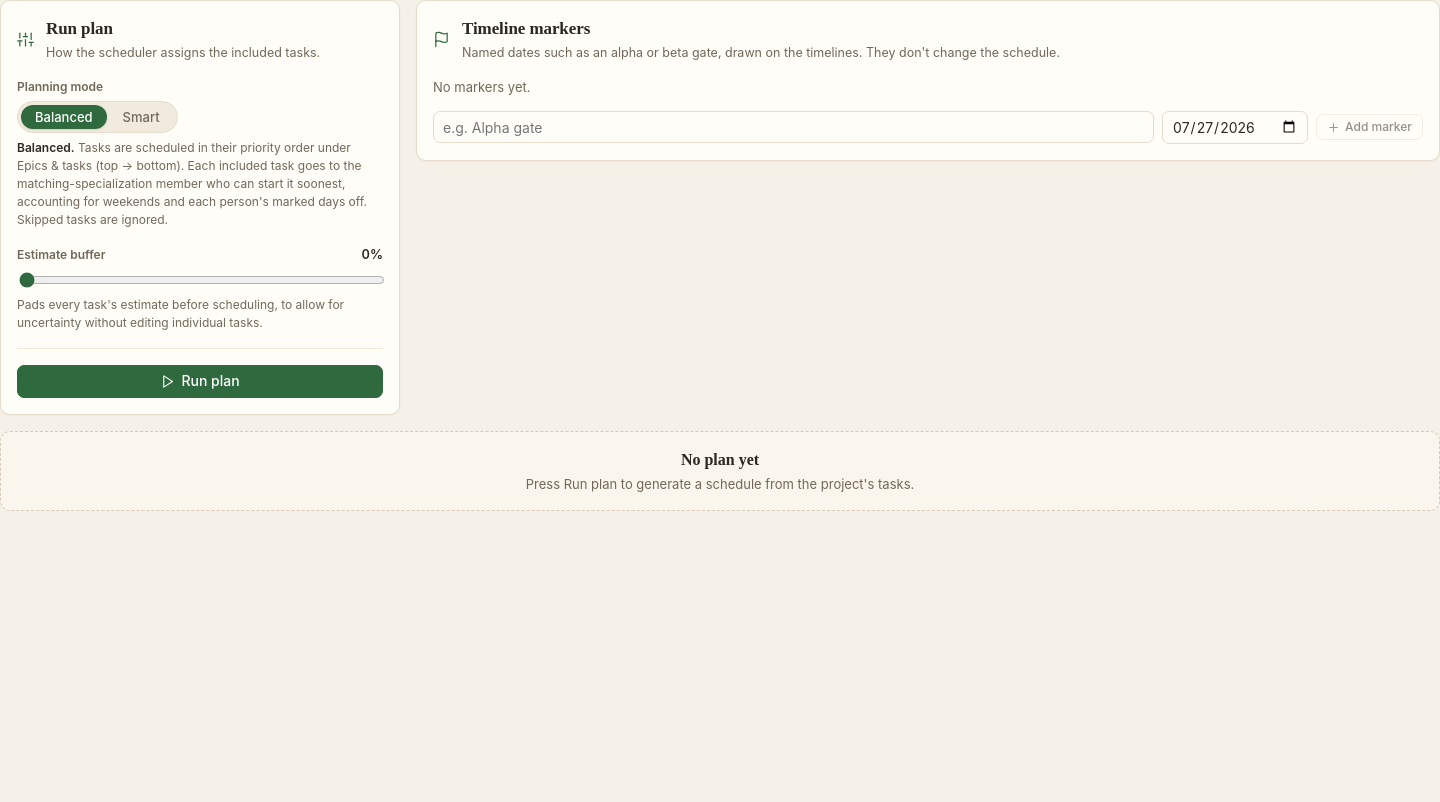
Test: RunPlanPanel › filters the plan by task or epic name
Click the button "Run plan" at (200, 381), box [17,365,383,398]
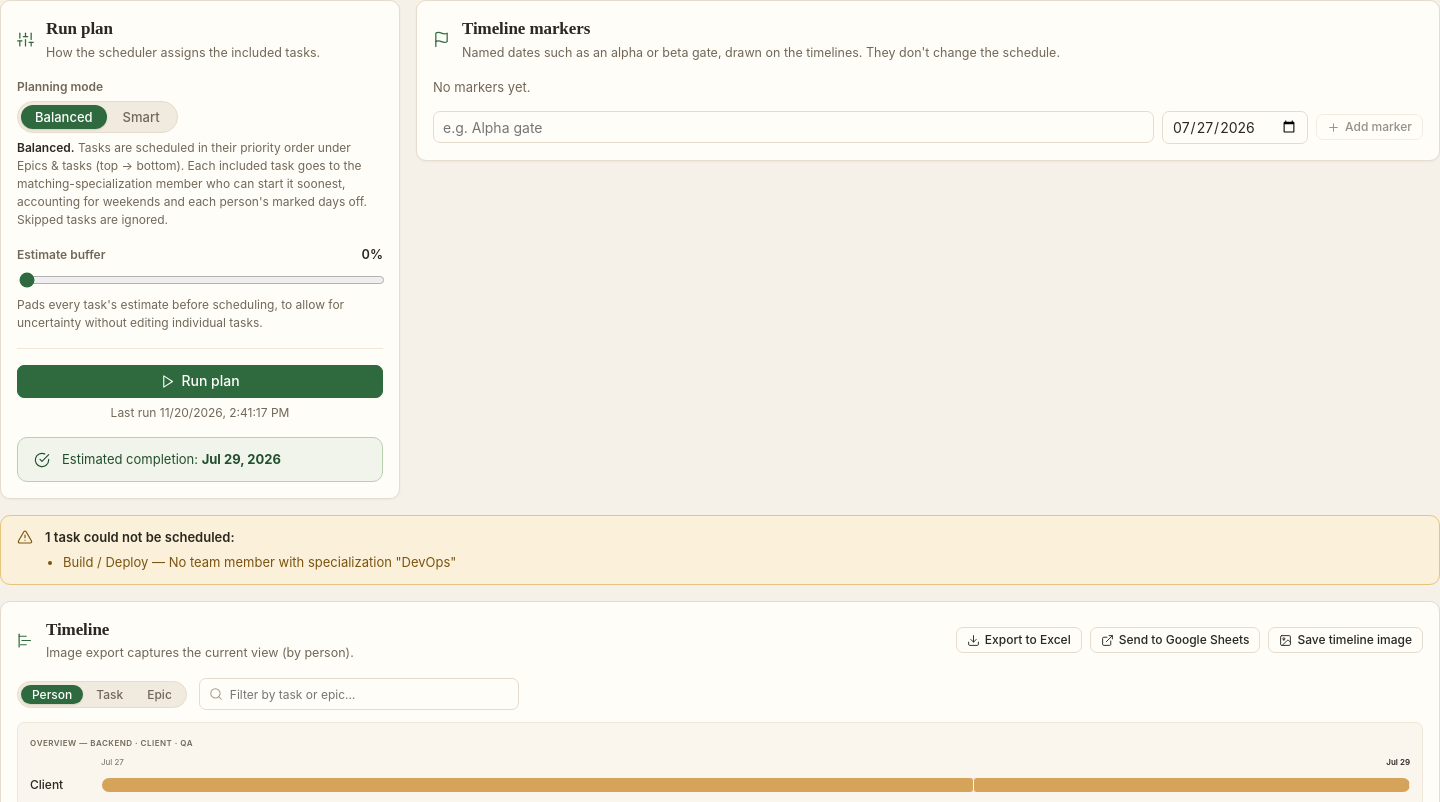
// Epic name match keeps that epic's tasks only.
Type "launch" into the search field named "Filter plan by task or epic" at (359, 694), box [199,678,519,710]
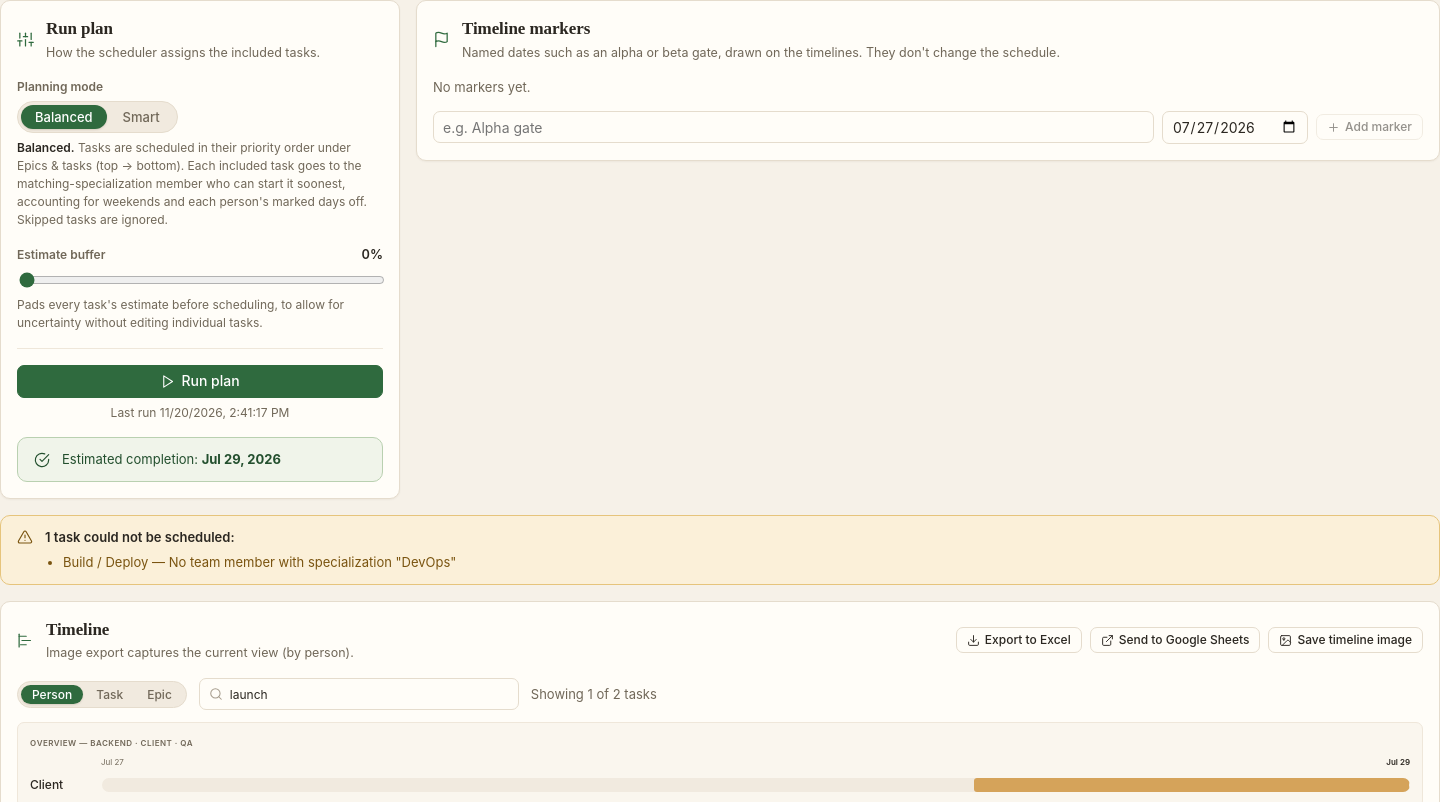
Check: the text "Showing 1 of 2 tasks" is shown, box [531,685,657,704]
Check: the text "Build API" is not shown
// Task name match.
Replace the text in the search field named "Filter plan by task or epic" with "api" at (359, 694), box [199,678,519,710]
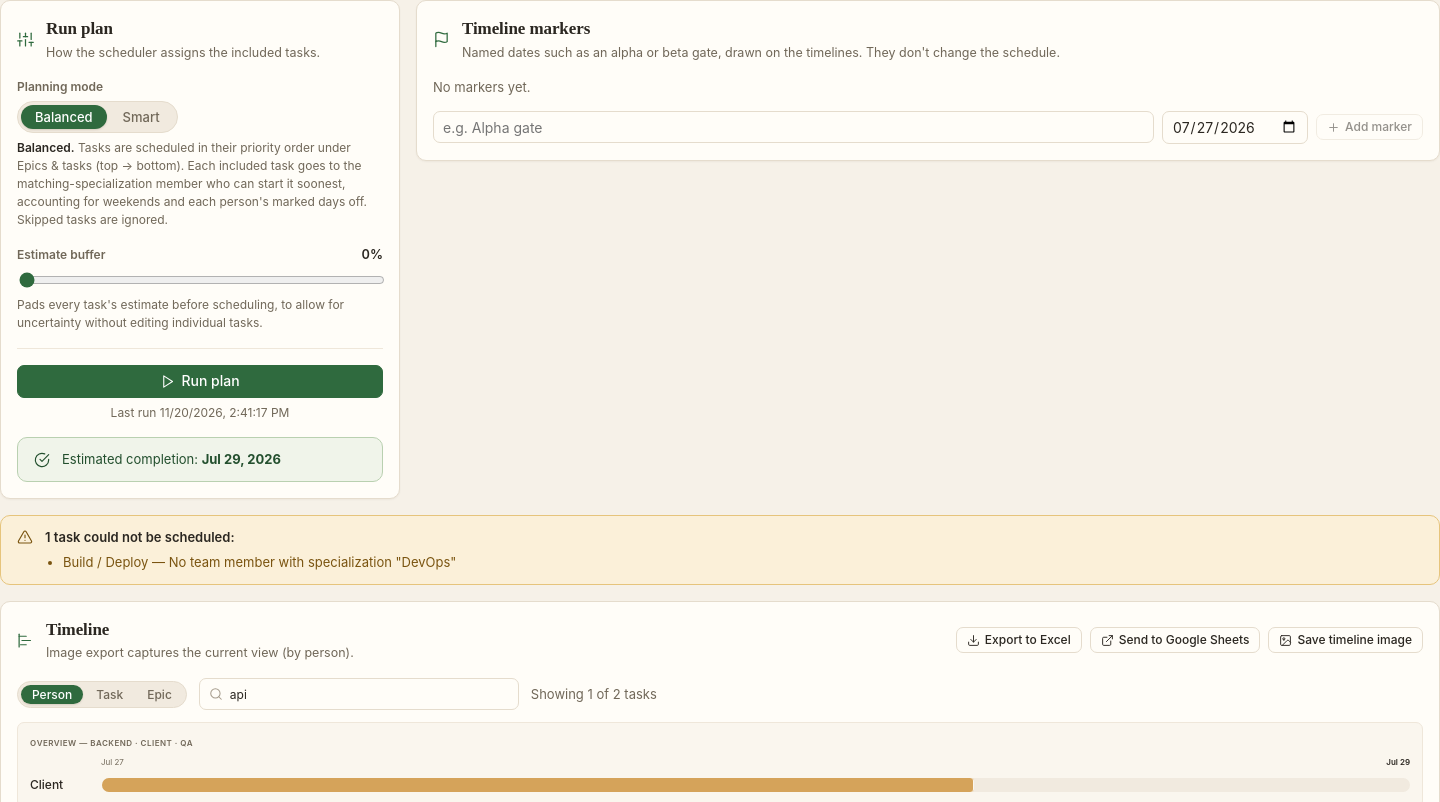
Check: the text "Write docs" is not shown
Replace the text in the search field named "Filter plan by task or epic" with "nothing" at (359, 694), box [199,678,519,710]
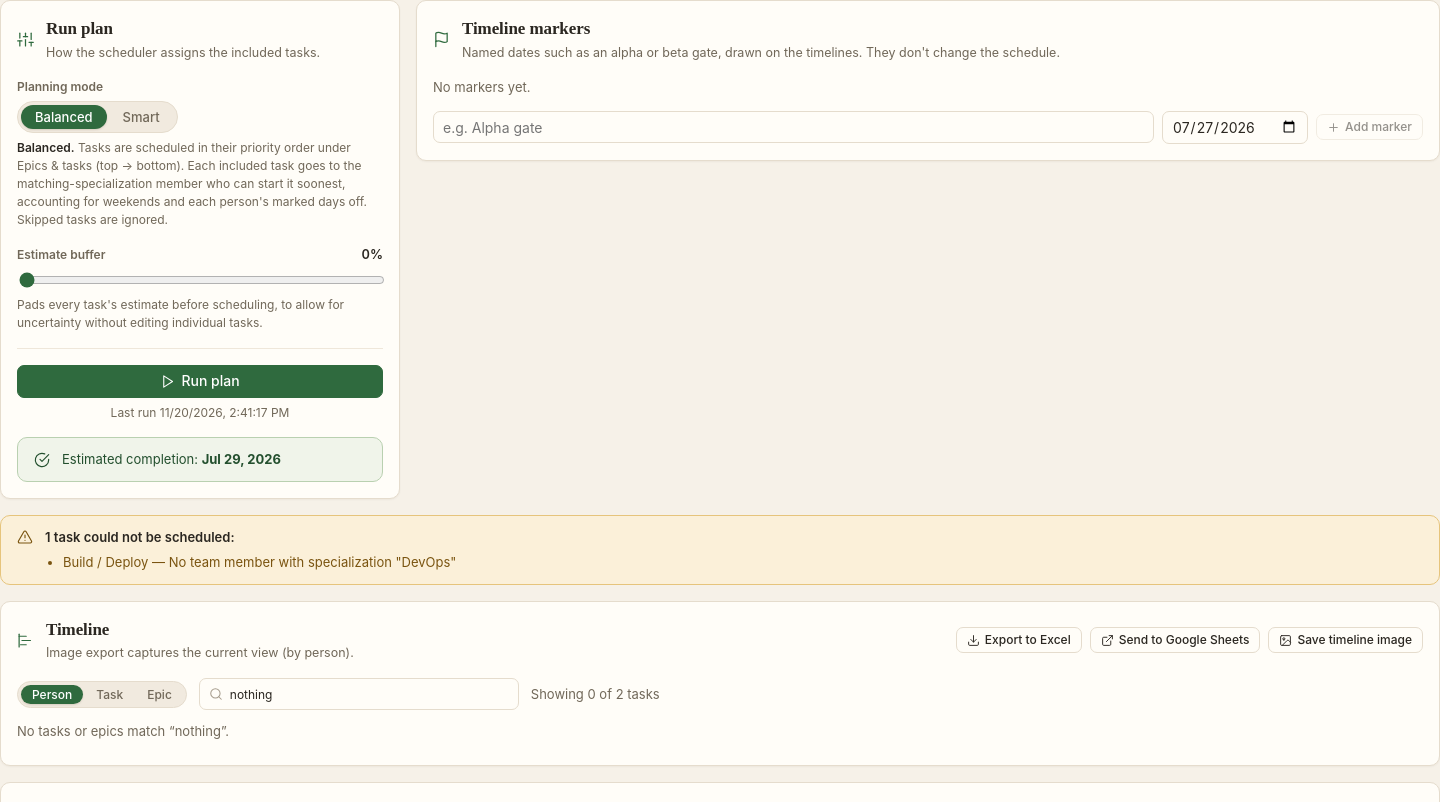
Check: the text "No tasks or epics match “nothing”." is shown, box [17,724,229,740]
